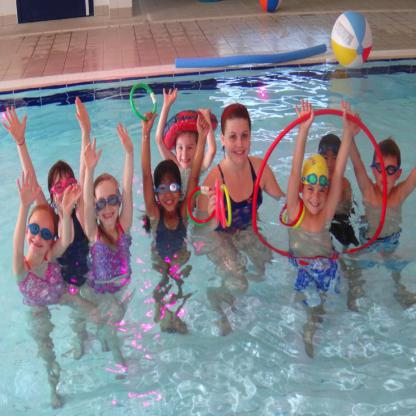face: (225, 117, 252, 165), (28, 209, 55, 255), (96, 184, 120, 227), (375, 154, 398, 193), (53, 174, 79, 208), (158, 175, 181, 213), (304, 178, 327, 216), (176, 133, 198, 170), (320, 150, 343, 180)
